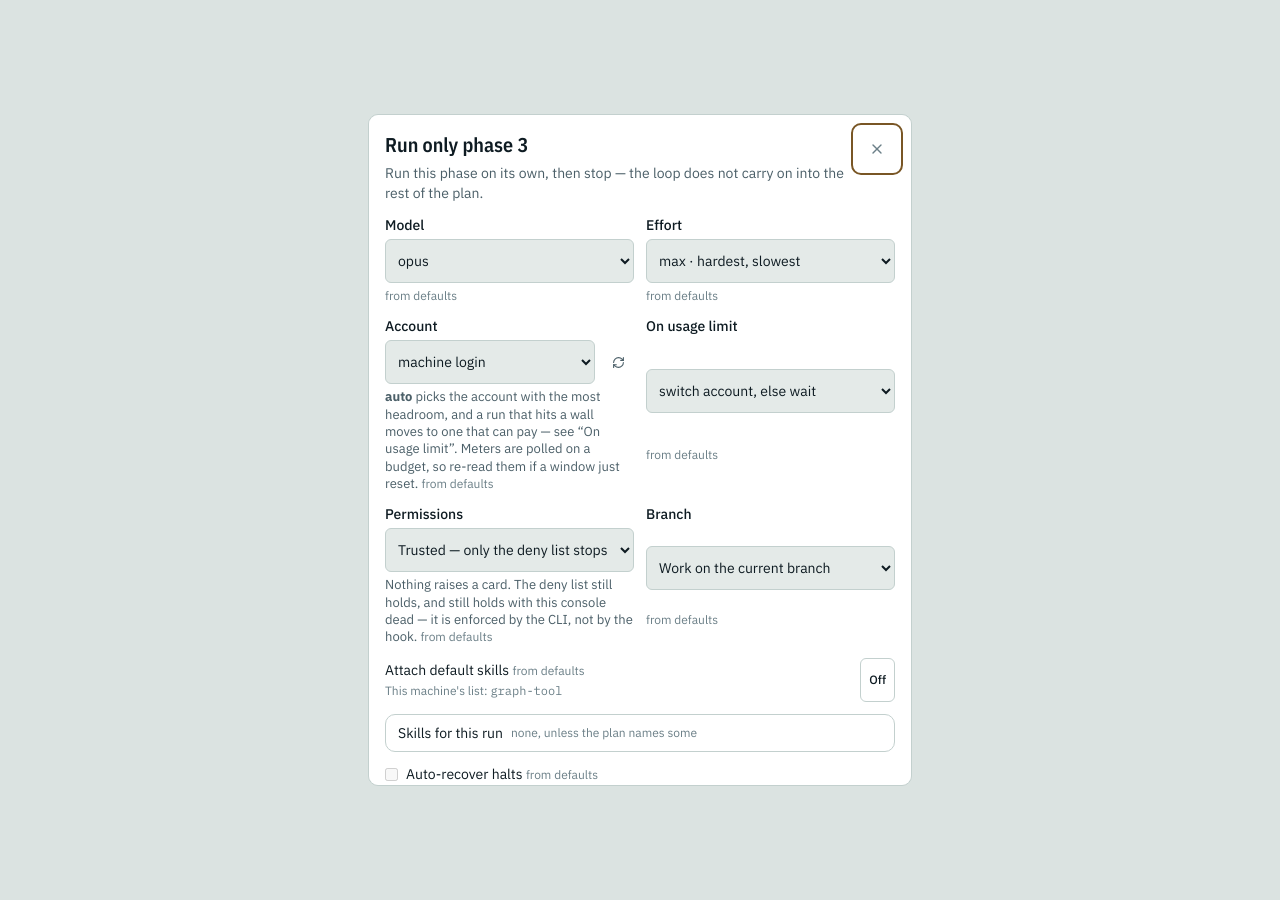
Test: the field matrix › a phase launch carries the git section, and the PR box follows the branch mode
Expected: the text "Branch" is shown, 646,505 -> 692,523
Expected: the text "Open a PR when the plan completes" is not shown
Select "Create a work branch per run (pe/alpha)" in the dropdown labelled "Branch". click: (770, 568)
box: 646,546 -> 895,590
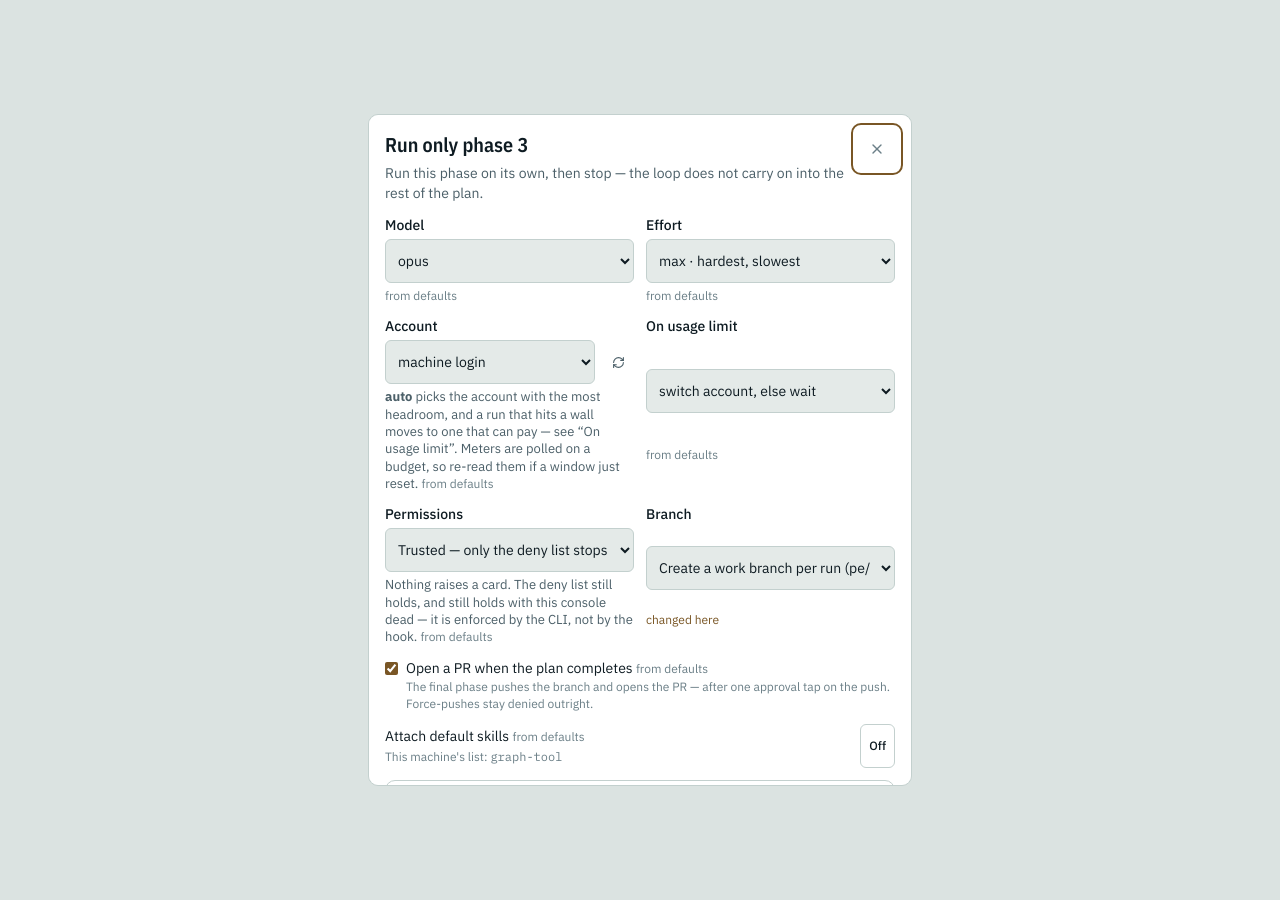
Result: the text "Open a PR when the plan completes" is shown at 406,659 -> 633,677
